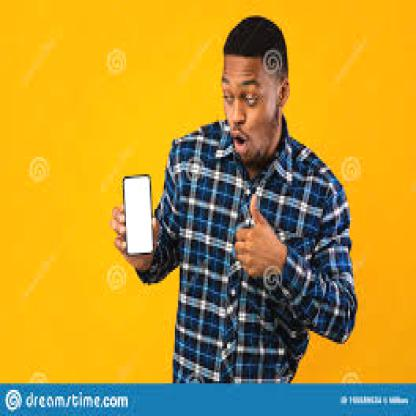Thumbs up: (234, 190, 284, 277)
